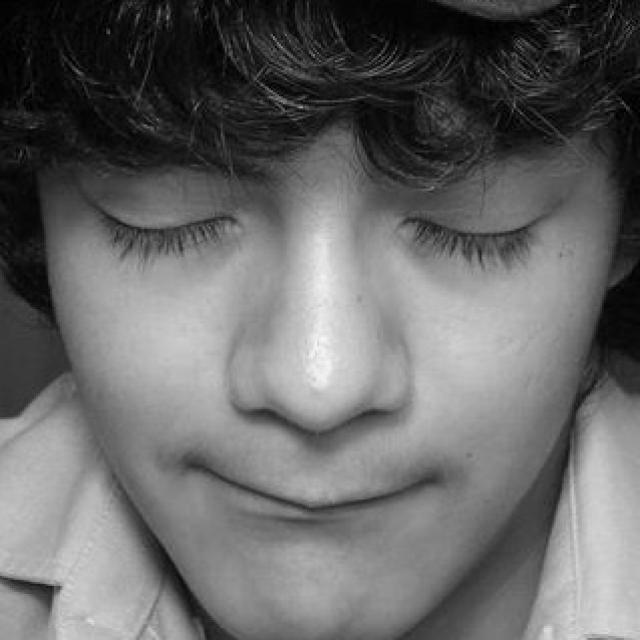real: (29, 96, 613, 633), (86, 153, 568, 316)
